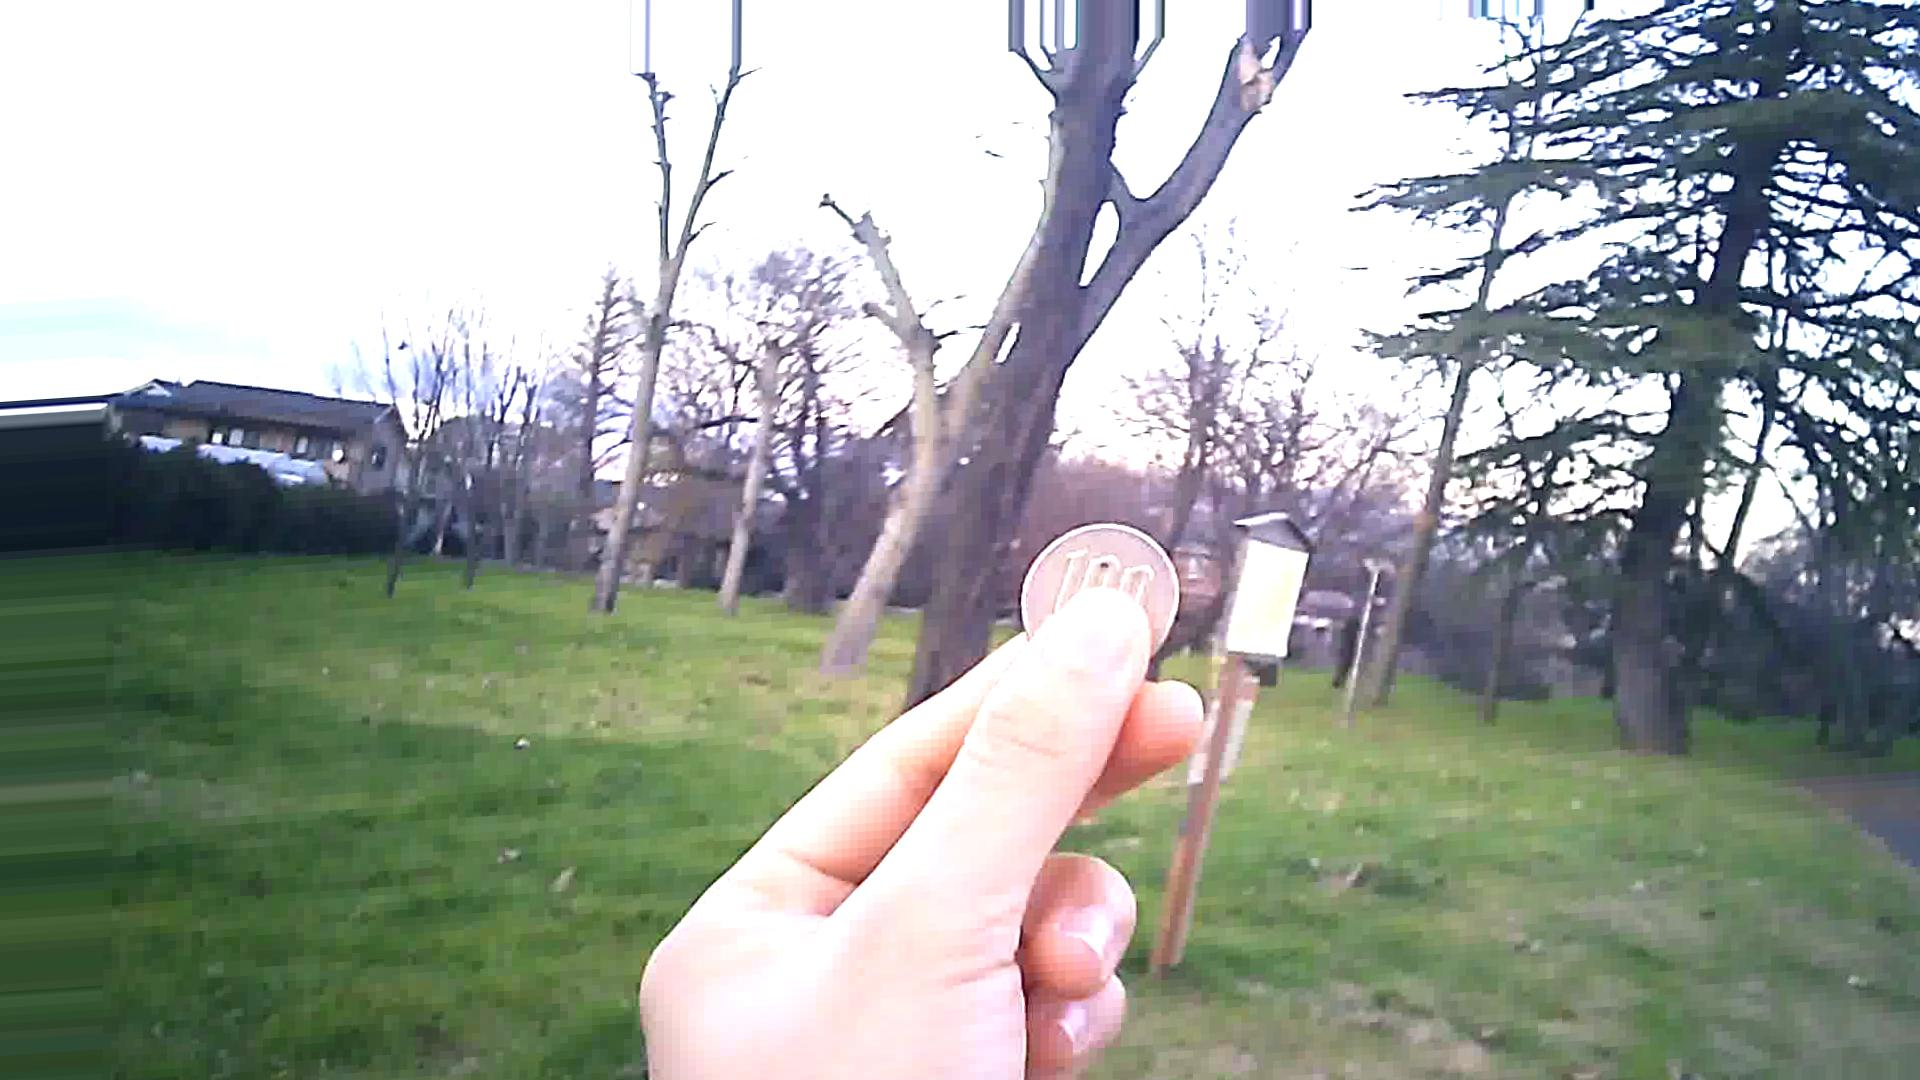100 Yen: (1006, 518, 1193, 670)
